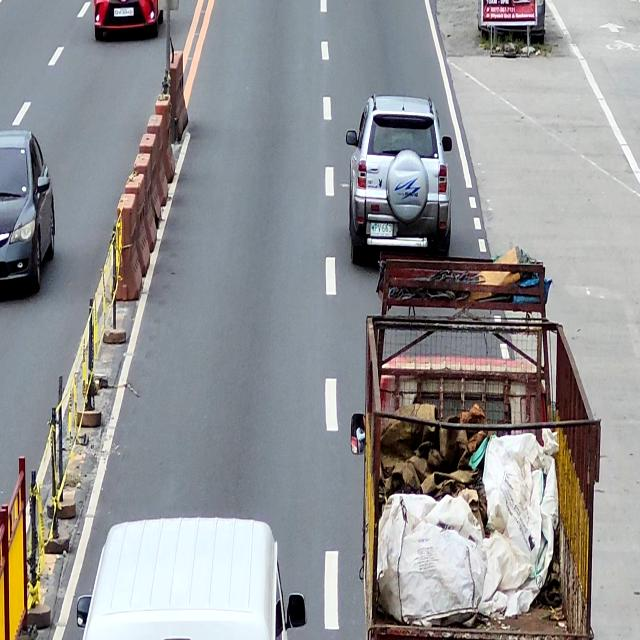Car: (346, 93, 452, 261), (0, 130, 55, 300), (93, 0, 164, 43)
License-Plate: (371, 223, 393, 238), (114, 8, 134, 17)
Truck: (351, 259, 601, 640)
